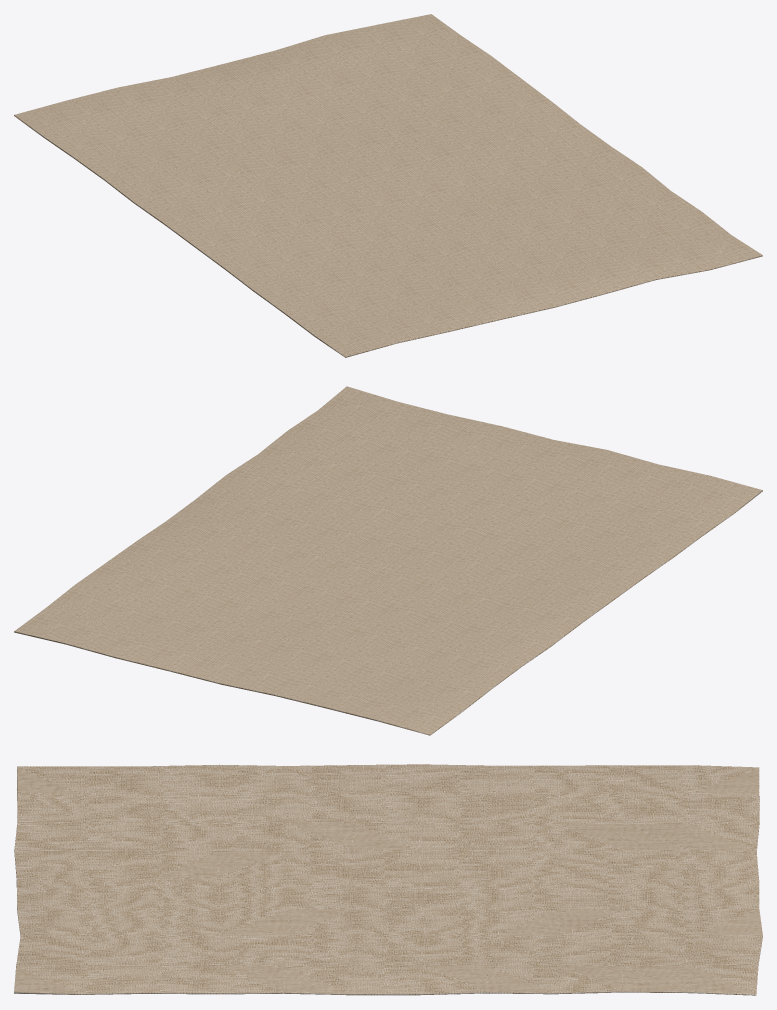
Rendered from carpet.FBX.
3 renders of one model, top to bottom at view 1: azimuth 30°, elevation 25°; view 2: azimuth 150°, elevation 25°; view 3: azimuth 270°, elevation 25°, orthographic. The views are drawn at different scales.
Visible parts, largest first — view 1: carpet; view 2: carpet; view 3: carpet.
Part boxes in pixels (x1,y1,x2,y2): carpet: [14, 14, 762, 357]; carpet: [14, 386, 762, 735]; carpet: [14, 764, 762, 995].
Bounding box in the file's own units: 2.4 × 0.0267 × 3.33.
